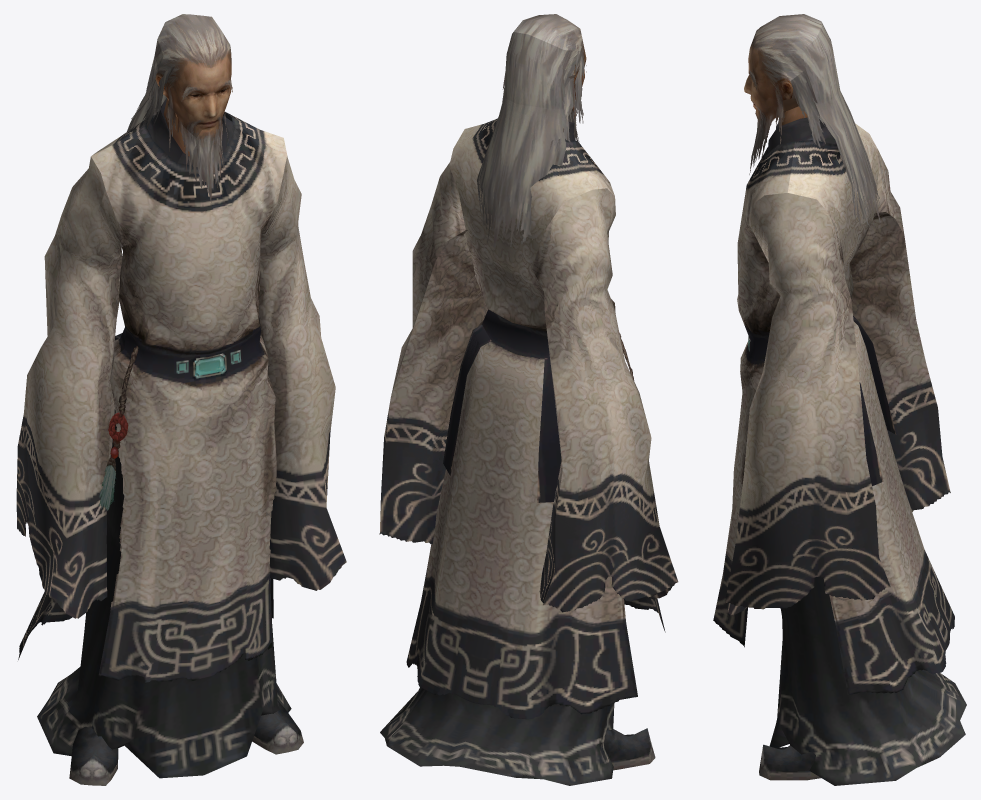
File: CunZhang.FBX
3 renders of one model, left to right at view 1: azimuth 30°, elevation 25°; view 2: azimuth 150°, elevation 25°; view 3: azimuth 270°, elevation 25°, orthographic. The views are drawn at different scales.
Parts seen in each view (by area): view 1: DrawCall_0870, DrawCall_0557; view 2: DrawCall_0870, DrawCall_0557; view 3: DrawCall_0870, DrawCall_0557.
Part boxes in pixels (<box>): DrawCall_0870: <box>16,97,346,785</box>; DrawCall_0557: <box>126,14,232,202</box>; DrawCall_0870: <box>379,118,678,785</box>; DrawCall_0557: <box>477,14,586,247</box>; DrawCall_0870: <box>713,106,966,785</box>; DrawCall_0557: <box>744,14,880,226</box>.
Size of the model in its own units: 74.57 by 188 by 60.23.
